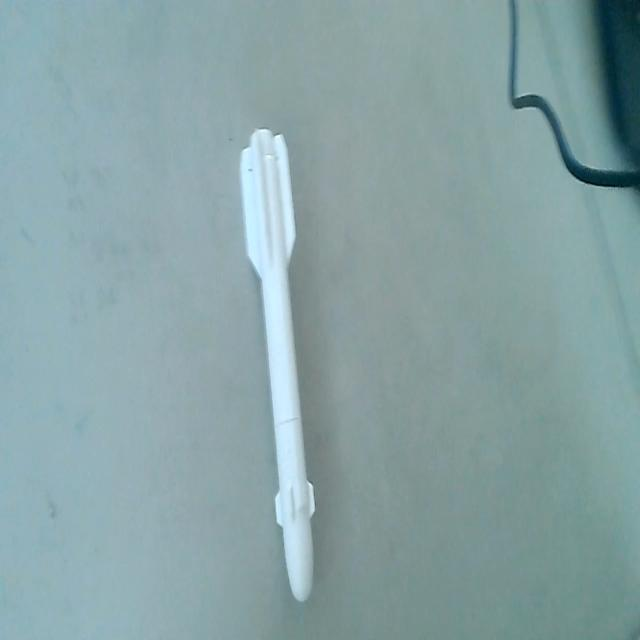Rocket: (236, 127, 317, 609)
